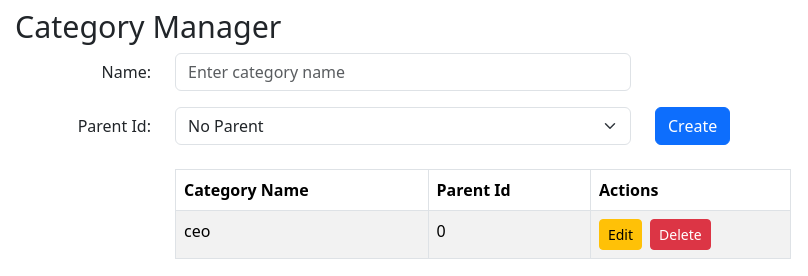
Scenario: CategoryManager Component › delete a category
Check: the text "ceo" is shown, box [176, 210, 428, 258]
Click the button "Delete": (680, 234) [650, 218, 711, 250]
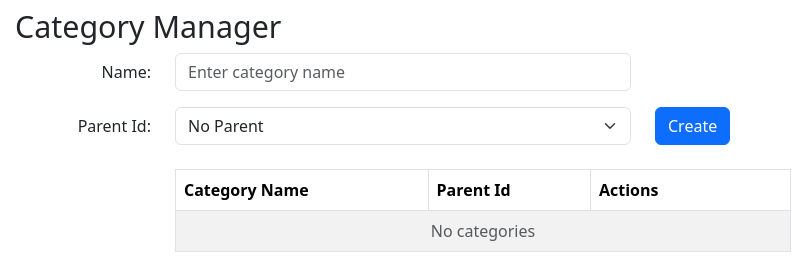
Check: the text "ceo" is gone
